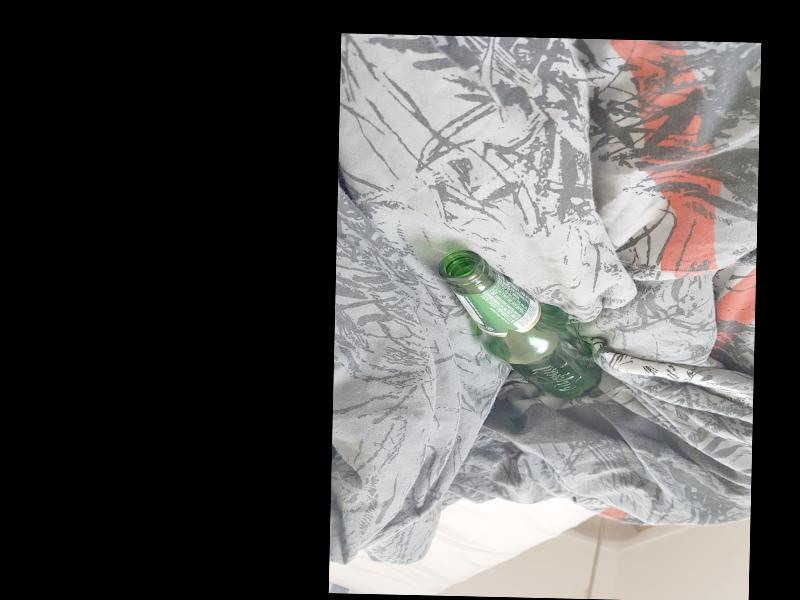Beer: (437, 249, 605, 399)
